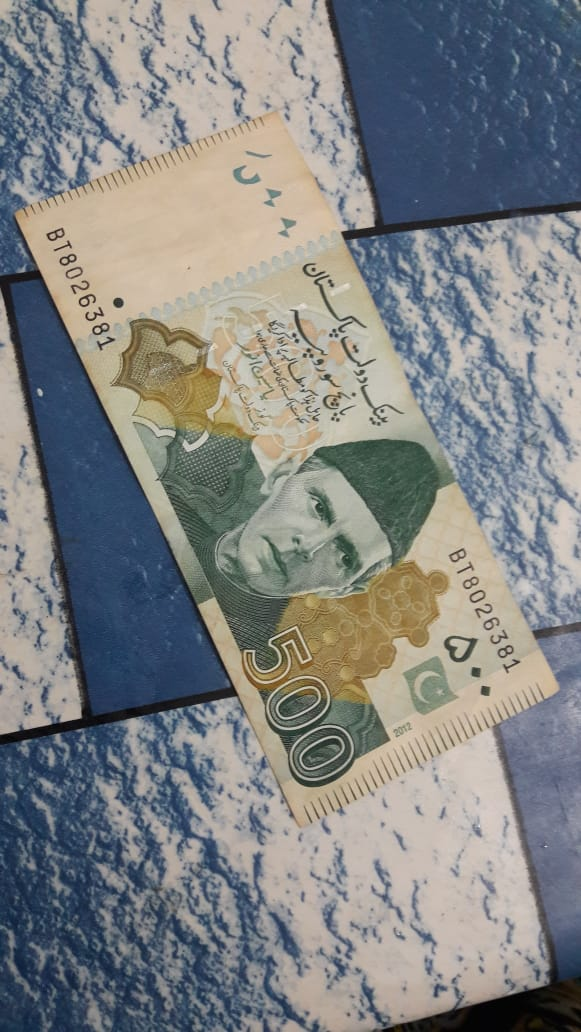500 rupee: (23, 119, 572, 872)
